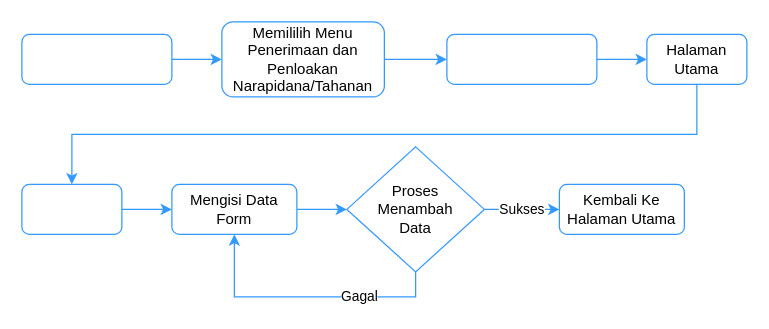
The diagram is 769 pixels wide and 329 high, and some of its shapes have lost their labels. Each missing label, with the box of its shape:
Memilih Menu Penerimaan: (446, 33, 597, 84)
Memilih Menu Registrasi: (21, 33, 172, 84)
Tambah: (21, 183, 122, 234)
